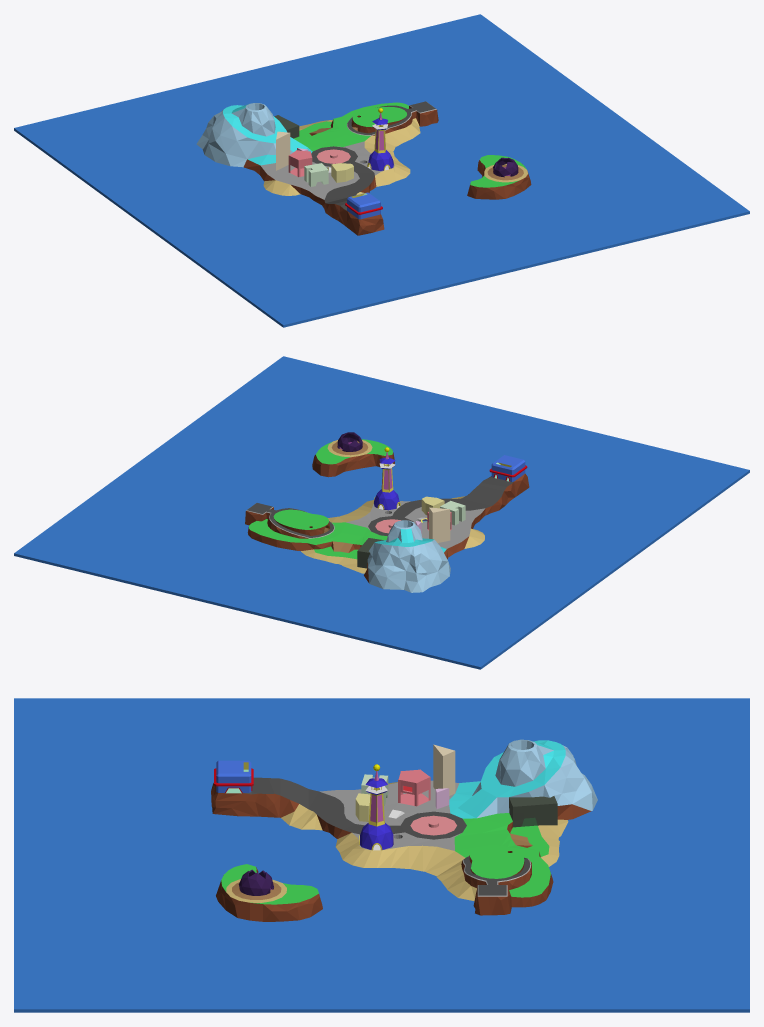
File: FullMap.fbx
3 renders of one model, top to bottom at view 1: azimuth 30°, elevation 25°; view 2: azimuth 150°, elevation 25°; view 3: azimuth 270°, elevation 25°, orthographic. The views are drawn at different scales.
Parts seen in each view (by area): view 1: water, Map; view 2: water, Map; view 3: water, Map.
Part boxes in pixels (box(x1,y1,x2,y2)): water: box(14, 14, 749, 327); Map: box(196, 101, 531, 235); water: box(14, 356, 749, 669); Map: box(245, 432, 529, 592); water: box(14, 698, 749, 1012); Map: box(211, 739, 597, 921).
Size of the model in its own units: 4536 by 798 by 4536.
